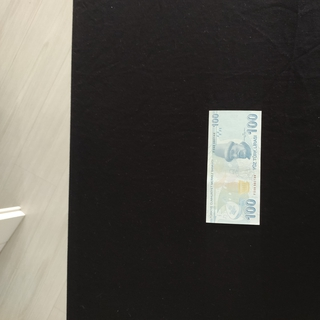100TLBack: (205, 109, 262, 226)
